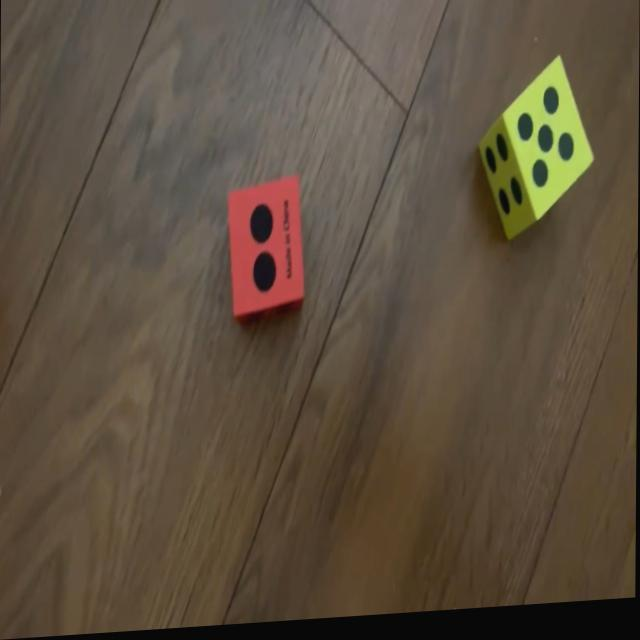red_block: (226, 177, 305, 324)
